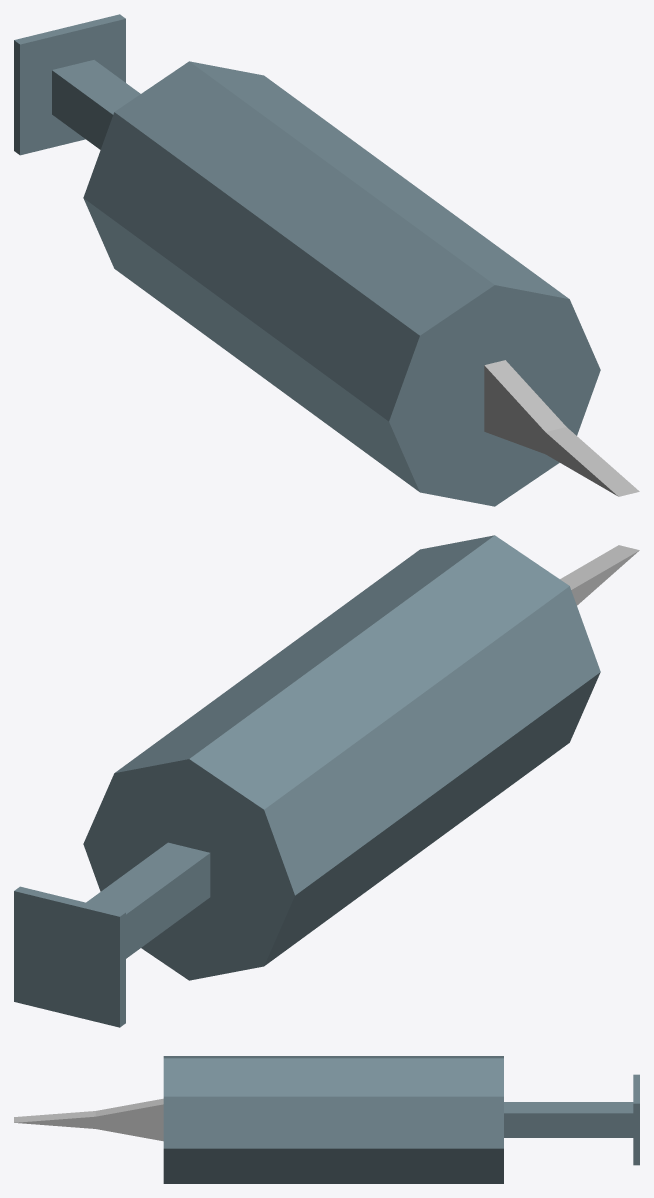
File: ExperimentalSyringe.glb
The picture shows the model from 3 angles, top to bottom: view 1: azimuth 30°, elevation 25°; view 2: azimuth 150°, elevation 25°; view 3: azimuth 270°, elevation 25°; orthographic projection. The views are drawn at different scales.
Parts seen in each view (by area): view 1: SyringeBody, SyringeTail, SyringeTip; view 2: SyringeBody, SyringeTail, SyringeTip; view 3: SyringeBody, SyringeTail, SyringeTip.
Boxes of the visible parts, x1,y1,x2,y2 form: SyringeBody: (83, 61, 600, 506); SyringeTail: (14, 14, 140, 155); SyringeTip: (484, 360, 639, 496); SyringeBody: (83, 535, 600, 980); SyringeTail: (14, 842, 210, 1027); SyringeTip: (560, 545, 639, 605); SyringeBody: (163, 1056, 503, 1183); SyringeTail: (504, 1074, 639, 1165); SyringeTip: (14, 1098, 163, 1141).
Size of the model in its own units: 0.2 by 0.2 by 0.92.
